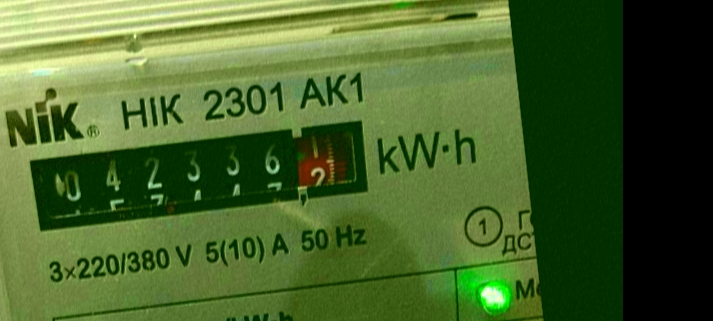0: (60, 167, 83, 204)
1: (305, 131, 321, 162)
2: (140, 154, 164, 192), (306, 165, 327, 188)
3: (180, 145, 203, 185), (218, 141, 242, 179)
4: (100, 155, 123, 194)
6: (257, 140, 283, 177)
screen: (19, 110, 379, 241)
